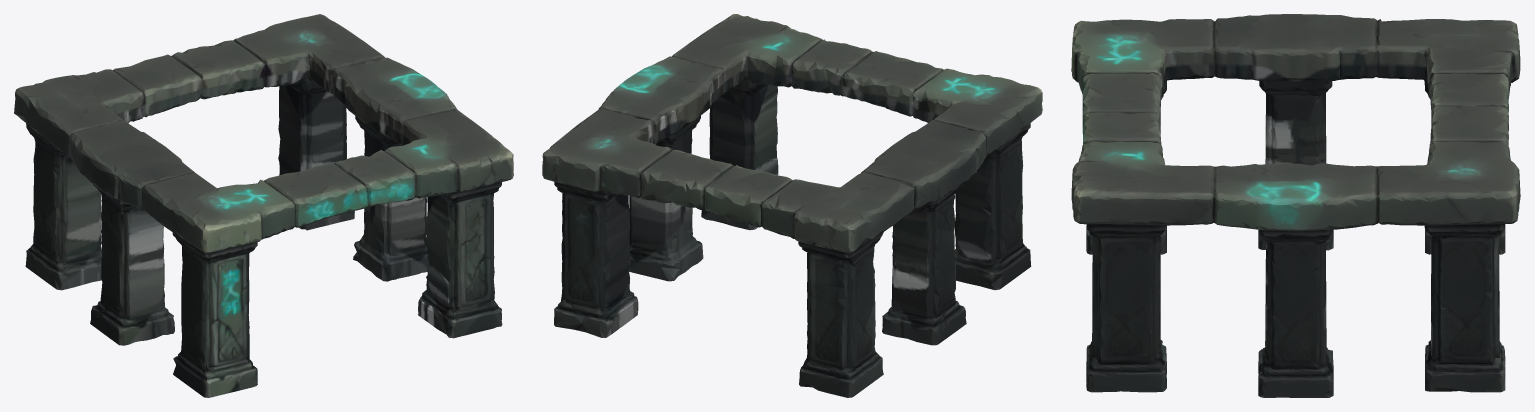
Rendered from Atlantis_Archway.glb.
3 renders of one model, left to right at view 1: azimuth 30°, elevation 25°; view 2: azimuth 150°, elevation 25°; view 3: azimuth 270°, elevation 25°, orthographic. The views are drawn at different scales.
Parts seen in each view (by area): view 1: Atlantis_Archway; view 2: Atlantis_Archway; view 3: Atlantis_Archway.
Part boxes in pixels (<box>): Atlantis_Archway: <box>14,14,513,397</box>; Atlantis_Archway: <box>542,14,1042,397</box>; Atlantis_Archway: <box>1071,14,1520,397</box>.
Bounding box in the file's own units: 3.6 × 1.79 × 3.6.
Materials: 1 (1 with a texture image).
